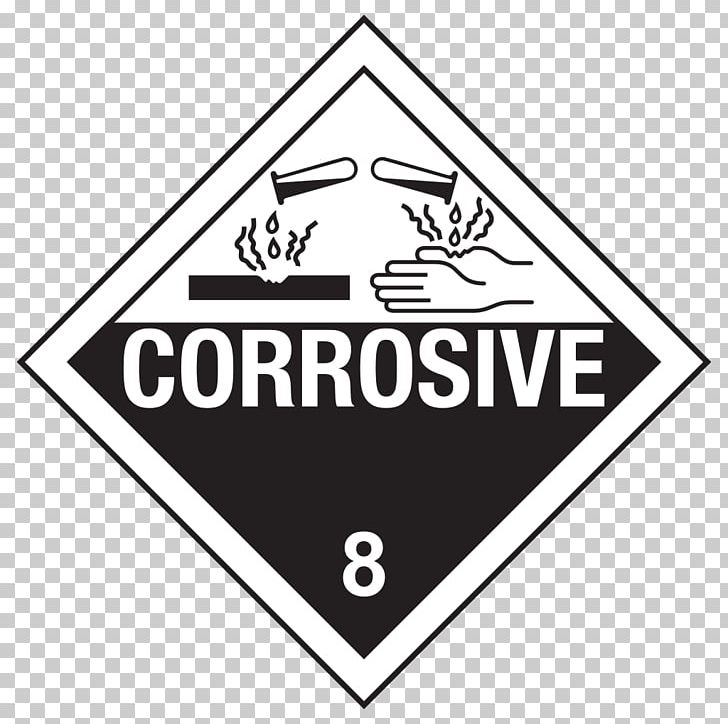Corrosive: (11, 13, 709, 709)
